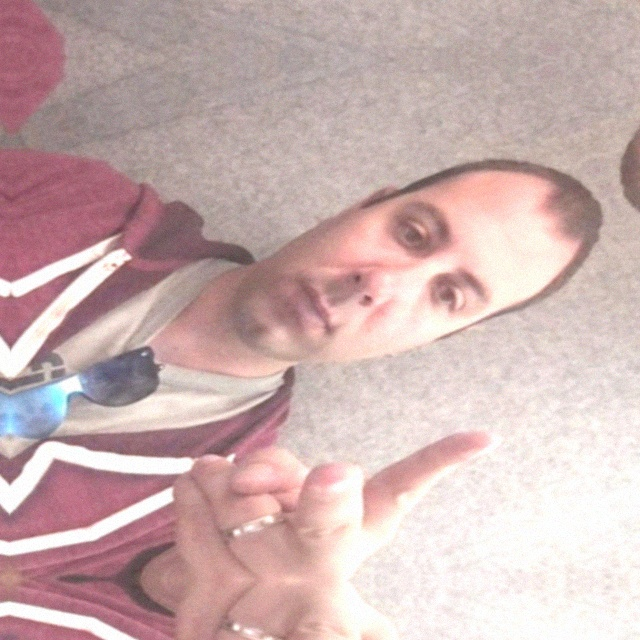Scissors: (79, 362, 556, 582)
